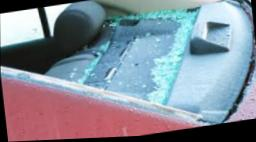Windshield: (0, 0, 254, 124)
